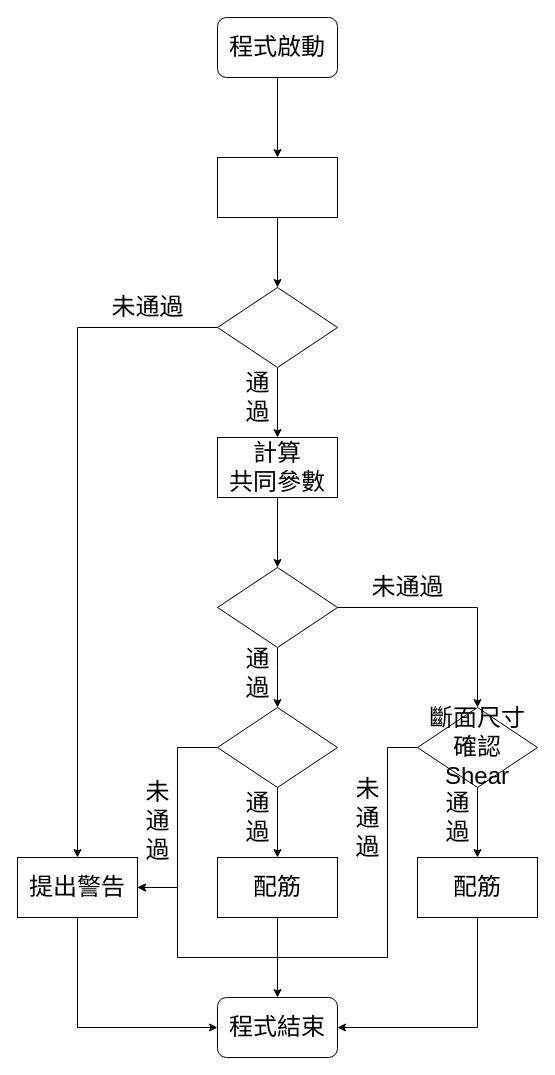
The diagram is 555 pixels wide and 1075 high, and some of its shapes have lost their labels. Each missing label, with the box of its shape:
幾何確認: (216, 286, 338, 368)
幾何確認 Torsion: (216, 566, 338, 648)
斷面尺寸 確認 Torsion+Shear: (216, 706, 338, 788)
輸入參數: (216, 156, 338, 218)
